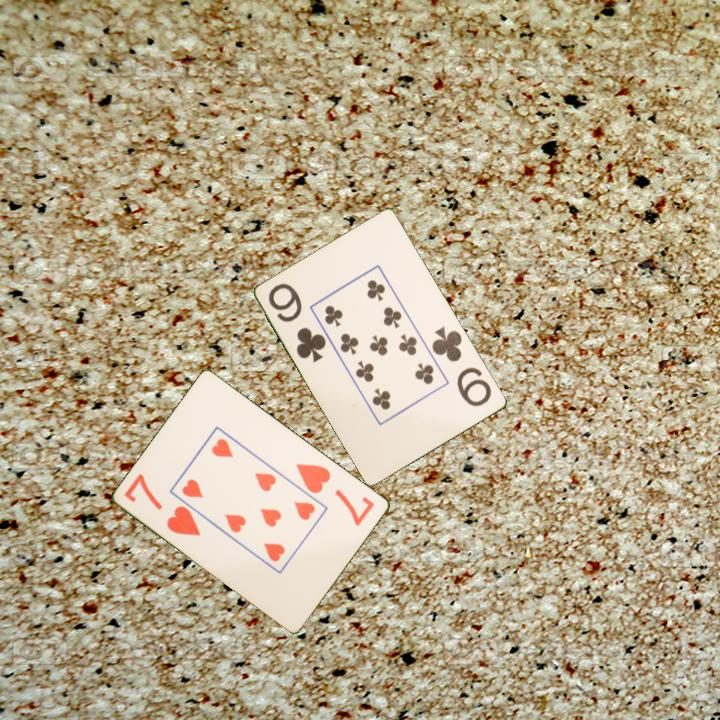7h: (292, 460, 378, 529), (121, 470, 204, 539)
9c: (428, 323, 495, 410), (265, 279, 330, 366)
